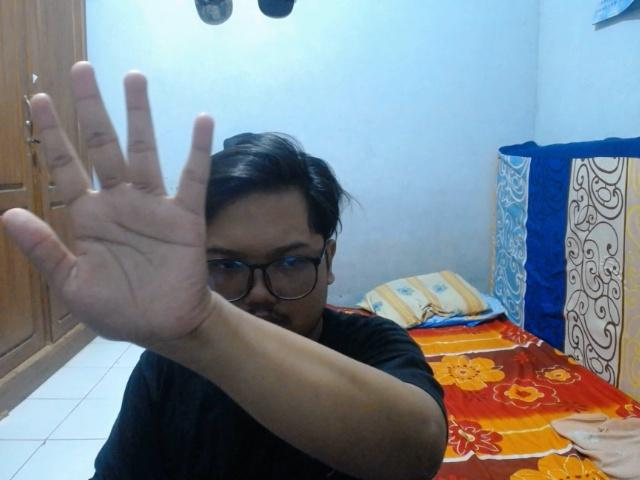Release: (0, 56, 217, 343)
